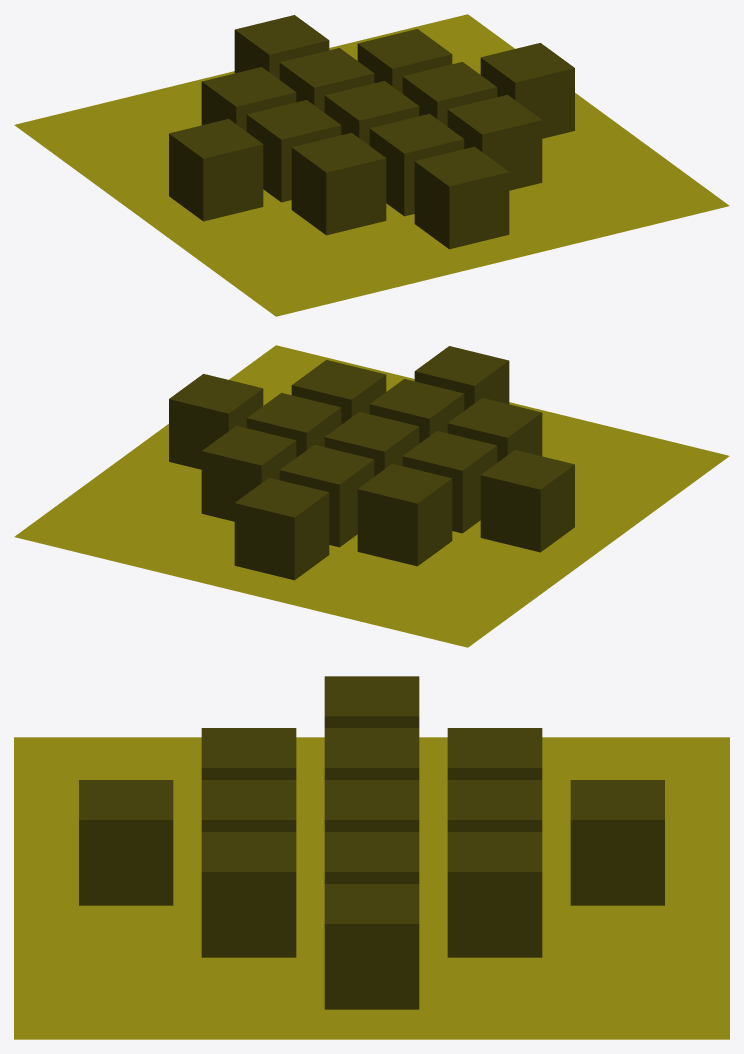
The model's file is aframeBouncingBlocks2.gltf.
3 renders of one model, top to bottom at view 1: azimuth 30°, elevation 25°; view 2: azimuth 150°, elevation 25°; view 3: azimuth 270°, elevation 25°, orthographic. The views are drawn at different scales.
Visible parts, largest first — view 1: Plane, Cube.014, Cube.007, Cube, Cube.006, Cube.001, Cube.004, Cube.013, Cube.011, Cube.003, Cube.005, Cube.009 (+2 smaller); view 2: Plane, Cube.011, Cube.003, Cube, Cube.009, Cube.001, Cube.004, Cube.010, Cube.014, Cube.007, Cube.005, Cube.006 (+2 smaller); view 3: Plane, Cube.001, Cube.006, Cube.009, Cube.003, Cube.007, Cube, Cube.002, Cube.004, Cube.005, Cube.010, Cube.011 (+2 smaller).
Part boxes in pixels (bbox=[...]): Plane: bbox=[14, 14, 729, 316]; Cube.014: bbox=[291, 132, 386, 235]; Cube.007: bbox=[414, 146, 509, 249]; Cube: bbox=[169, 119, 263, 221]; Cube.006: bbox=[447, 94, 542, 190]; Cube.001: bbox=[480, 43, 574, 138]; Cube.004: bbox=[246, 100, 341, 202]; Cube.013: bbox=[369, 114, 464, 216]; Cube.011: bbox=[201, 67, 296, 131]; Cube.003: bbox=[234, 15, 329, 79]; Cube.005: bbox=[324, 81, 419, 145]; Cube.009: bbox=[357, 29, 452, 93]; Plane: bbox=[14, 345, 729, 647]; Cube.011: bbox=[357, 463, 452, 566]; Cube.003: bbox=[234, 477, 329, 580]; Cube: bbox=[480, 450, 574, 552]; Cube.009: bbox=[201, 425, 296, 521]; Cube.001: bbox=[169, 374, 263, 469]; Cube.004: bbox=[402, 431, 497, 533]; Cube.010: bbox=[279, 445, 374, 547]; Cube.014: bbox=[447, 398, 542, 462]; Cube.007: bbox=[414, 346, 509, 410]; Cube.005: bbox=[324, 412, 419, 476]; Cube.006: bbox=[291, 360, 386, 424]; Plane: bbox=[14, 737, 729, 1039]; Cube.001: bbox=[324, 884, 419, 1009]; Cube.006: bbox=[201, 832, 296, 957]; Cube.009: bbox=[447, 832, 542, 957]; Cube.003: bbox=[570, 780, 664, 905]; Cube.007: bbox=[79, 780, 173, 905]; Cube: bbox=[324, 676, 419, 727]; Cube.002: bbox=[324, 832, 419, 883]; Cube.004: bbox=[324, 728, 419, 779]; Cube.005: bbox=[324, 780, 419, 831]; Cube.010: bbox=[447, 780, 542, 831]; Cube.011: bbox=[447, 728, 542, 779].
Bounding box in the file's own units: 15.14 × 2.06 × 15.14.
